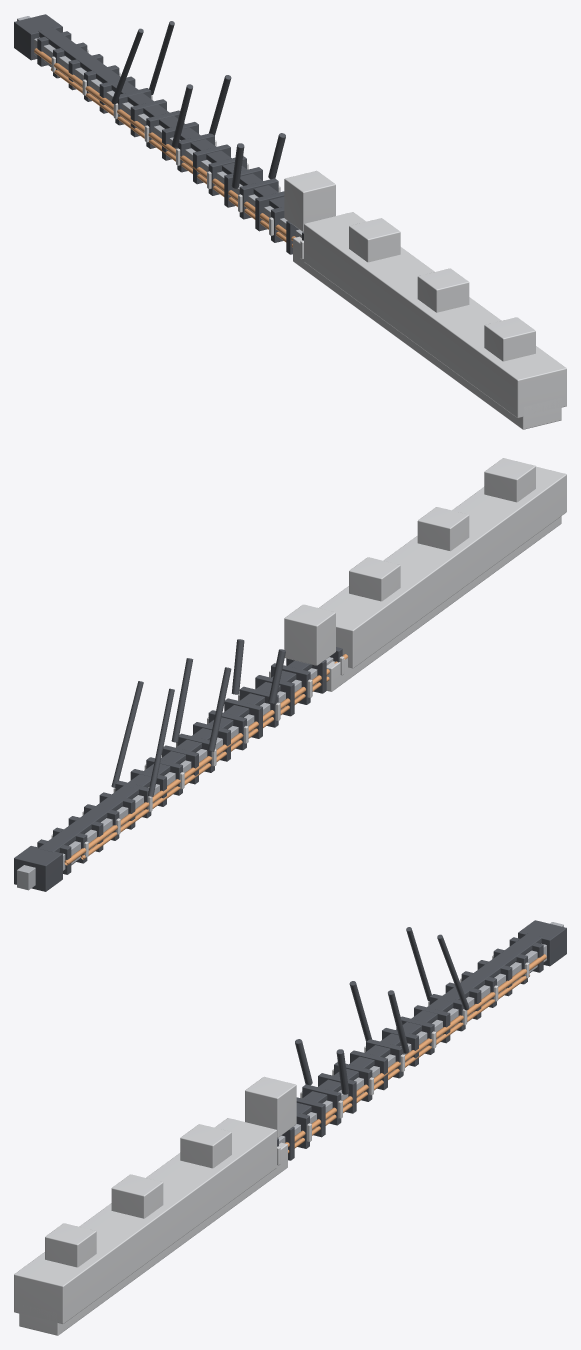
The model's file is mod_spinal_railgun.glb.
3 views of the same model, one above another, from view 1: azimuth 30°, elevation 25°; view 2: azimuth 150°, elevation 25°; view 3: azimuth 330°, elevation 25° (orthographic).
Visible parts, largest first — view 1: Railgun_Breech, Railgun_Yokes, Railgun_Copper_Busbars, Railgun_Rails; view 2: Railgun_Breech, Railgun_Yokes, Railgun_Copper_Busbars, Railgun_Rails; view 3: Railgun_Breech, Railgun_Yokes, Railgun_Copper_Busbars, Railgun_Rails.
Part boxes in pixels (box(x1,y1,x2,y2)): Railgun_Breech: box(51, 49, 566, 429); Railgun_Yokes: box(14, 14, 303, 254); Railgun_Copper_Busbars: box(34, 48, 295, 247); Railgun_Rails: box(17, 16, 303, 237); Railgun_Breech: box(51, 458, 566, 857); Railgun_Yokes: box(14, 639, 342, 891); Railgun_Copper_Busbars: box(64, 654, 347, 865); Railgun_Rails: box(17, 657, 333, 890); Railgun_Breech: box(14, 955, 529, 1335); Railgun_Yokes: box(277, 920, 566, 1160); Railgun_Copper_Busbars: box(285, 954, 546, 1153); Railgun_Rails: box(277, 922, 563, 1143).
Size of the model in its own units: 1.42 by 3.2 by 25.73.
